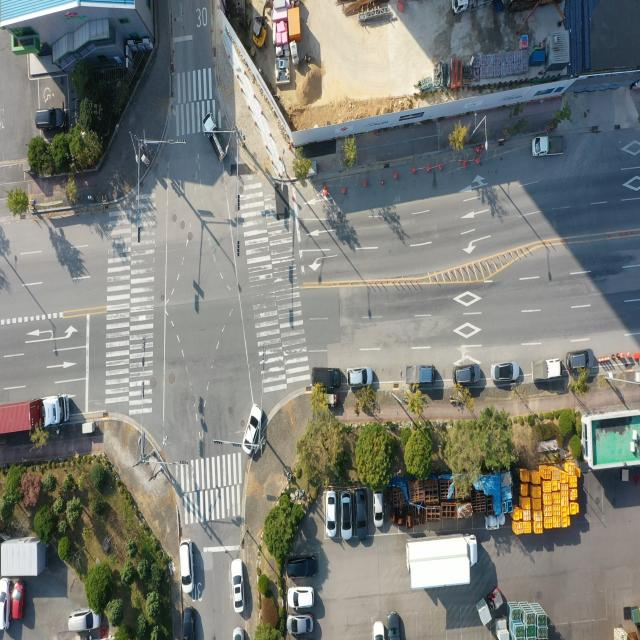car: (244, 403, 264, 453), (69, 610, 101, 636), (182, 541, 196, 596), (34, 110, 64, 134), (314, 366, 344, 390), (287, 556, 316, 580), (233, 561, 246, 613), (492, 362, 520, 385), (454, 364, 482, 387), (11, 579, 27, 618), (569, 349, 595, 372), (343, 492, 355, 540), (355, 491, 367, 539), (290, 588, 316, 610), (348, 365, 374, 387), (0, 574, 10, 630), (325, 492, 337, 538), (290, 617, 314, 637), (182, 605, 195, 640), (374, 492, 384, 526), (386, 612, 398, 640), (374, 621, 386, 640), (234, 627, 246, 640)
large_truck: (0, 396, 71, 438)
medium_truck: (403, 536, 476, 592), (450, 0, 476, 16)
small_truck: (203, 118, 228, 163), (532, 356, 563, 382), (403, 364, 436, 388), (535, 136, 566, 158)
